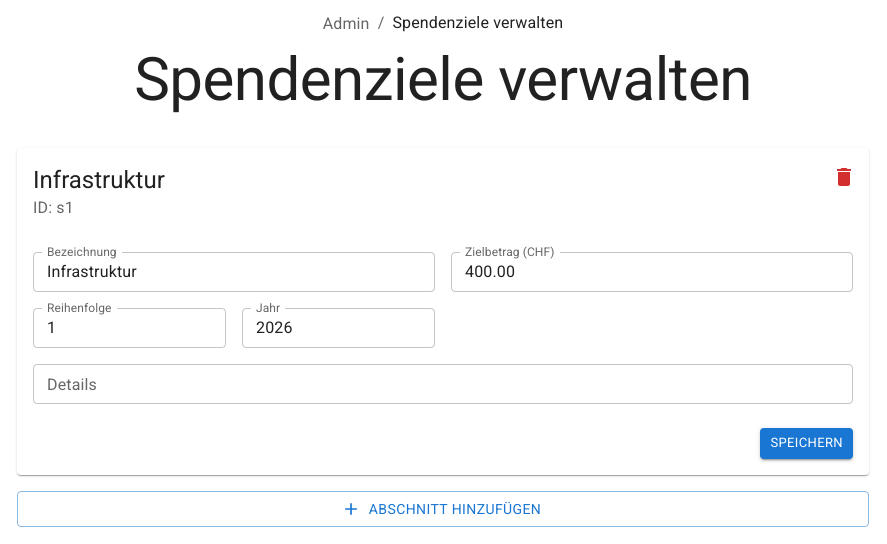
Test case: DonationGoalsPage — Numerische Felder › kappt ein zu kleines Jahr auf den unteren Grenzwert (2000)
Replace the text in the number field labelled "Jahr" with "0" at [338, 328], box [242,308,435,348]
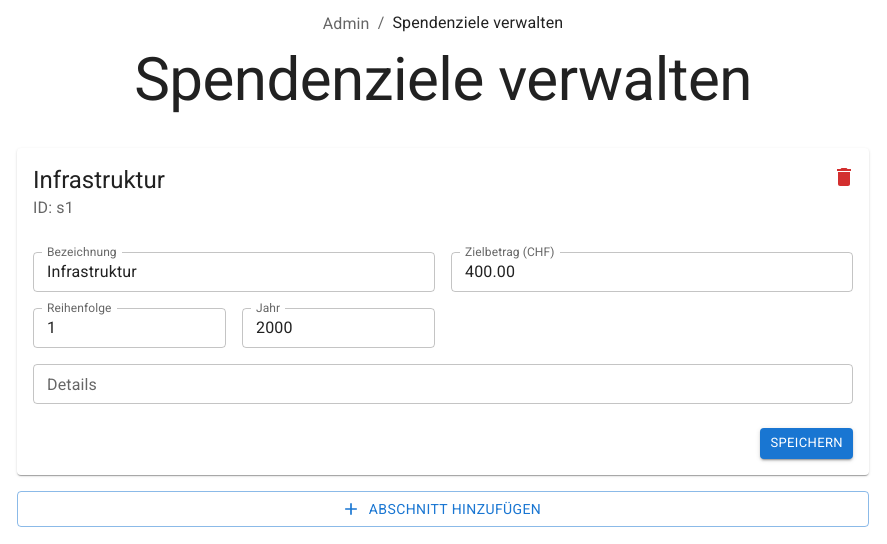
Expected: the number field labelled "Jahr" holds "2000", [242,308,435,348]
